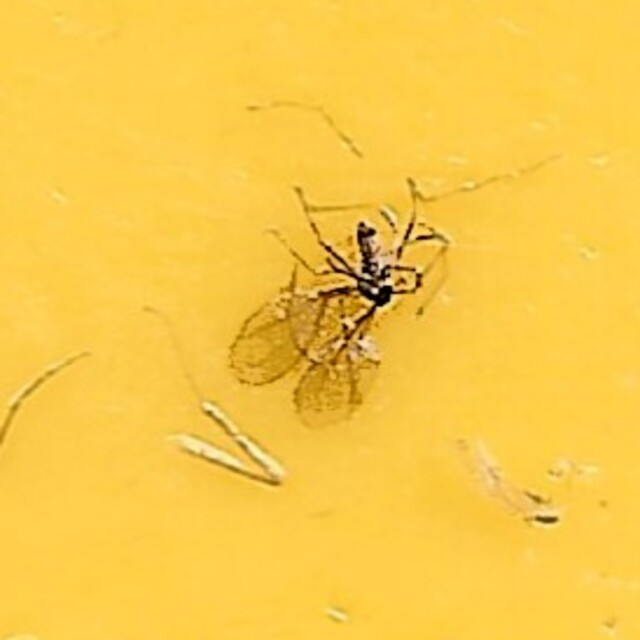Nematocera: (234, 208, 406, 432)
